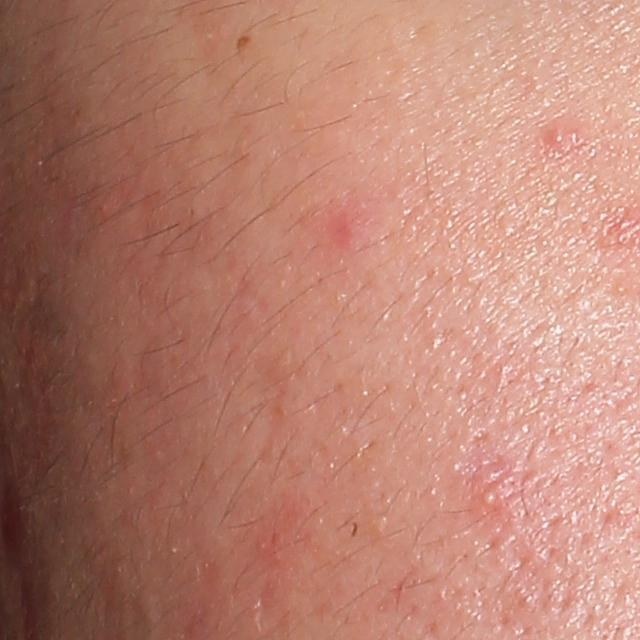nevus: (234, 31, 258, 61)
papule: (540, 121, 576, 153)
pustule: (480, 481, 503, 513)
